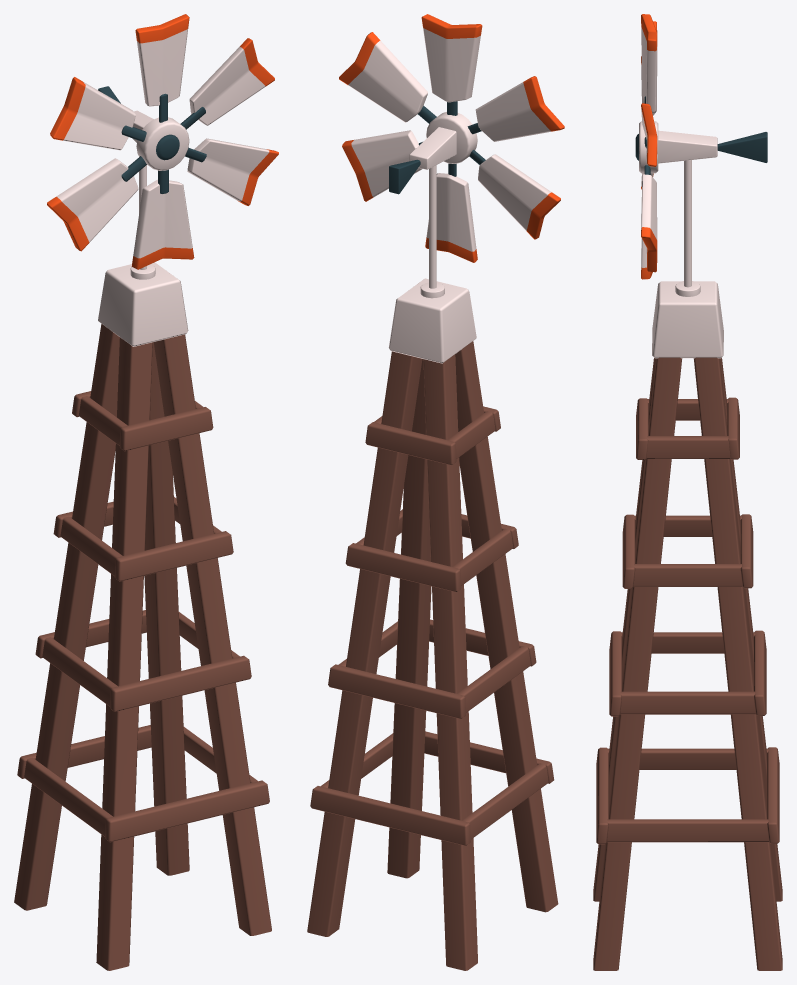
Rendered from Farm_8_Windmill_1.glb.
3 renders of one model, left to right at view 1: azimuth 30°, elevation 25°; view 2: azimuth 150°, elevation 25°; view 3: azimuth 270°, elevation 25°, orthographic. The views are drawn at different scales.
Visible parts, largest first — view 1: Farm_8_Windmill_1; view 2: Farm_8_Windmill_1; view 3: Farm_8_Windmill_1.
Part boxes in pixels (bbox=[...]): Farm_8_Windmill_1: bbox=[14, 14, 278, 970]; Farm_8_Windmill_1: bbox=[307, 14, 564, 970]; Farm_8_Windmill_1: bbox=[593, 14, 782, 970].
Size of the model in its own units: 3.61 by 13.87 by 2.64.
Materials: 1 (1 with a texture image).
